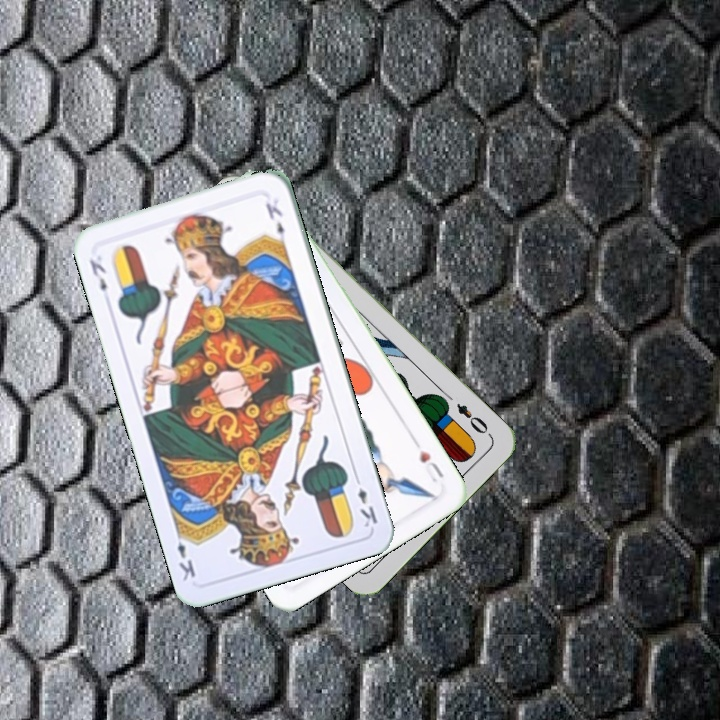EK: (350, 471, 380, 530), (85, 255, 110, 295)
EO: (452, 399, 491, 437)
HU: (409, 436, 446, 486)
